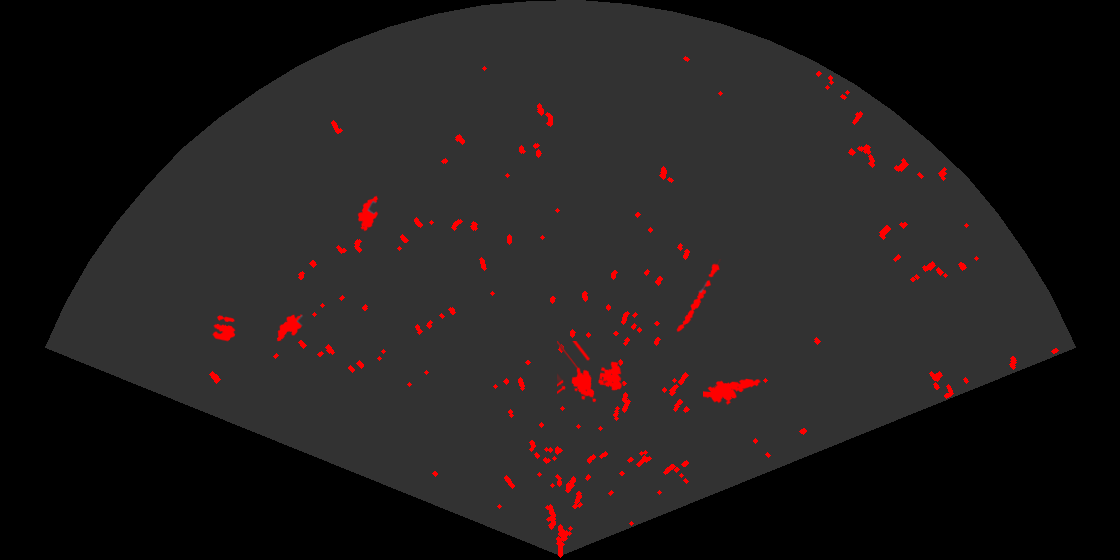AUV: (356, 194, 380, 233), (275, 313, 304, 343)
ball: (210, 314, 237, 343)
cage: (557, 341, 624, 404)
chain: (675, 259, 723, 334)
frogman: (703, 377, 761, 407)
